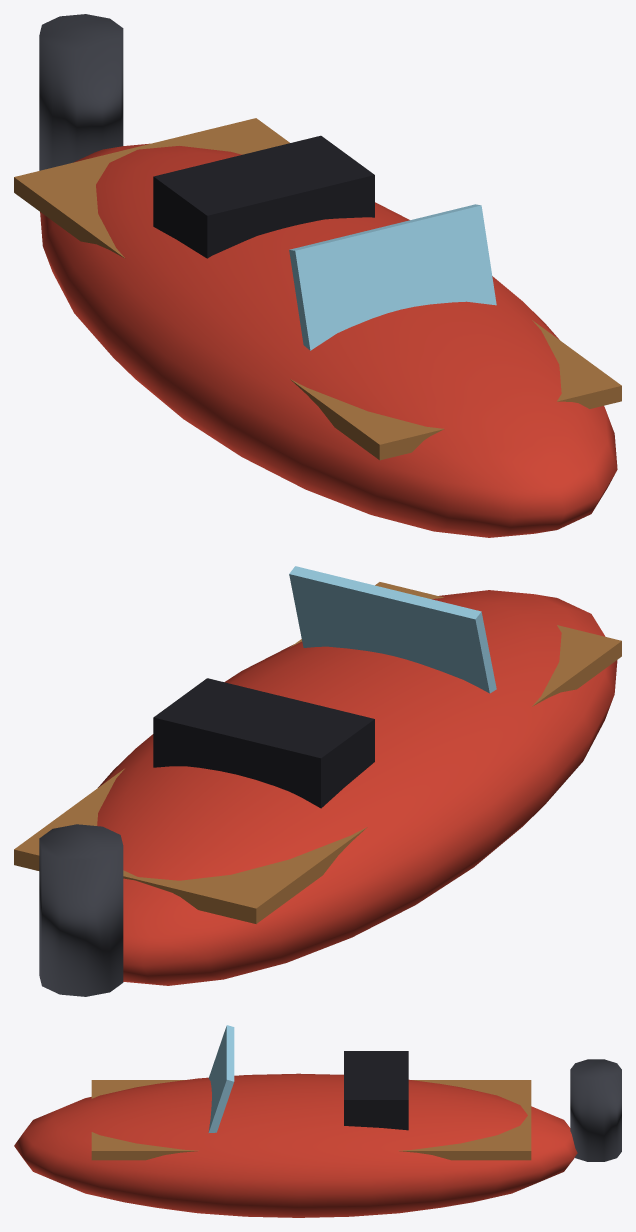
Rendered from motorboat.glb.
The picture shows the model from 3 angles, top to bottom: view 1: azimuth 30°, elevation 25°; view 2: azimuth 150°, elevation 25°; view 3: azimuth 270°, elevation 25°; orthographic projection. The views are drawn at different scales.
Visible parts, largest first — view 1: hull; view 2: hull; view 3: hull.
Boxes of the visible parts, x1,y1,x2,y2 form: hull: (14, 14, 621, 537); hull: (14, 566, 621, 996); hull: (14, 1025, 621, 1217).
Size of the model in its own units: 1.8 by 1.25 by 4.7.
